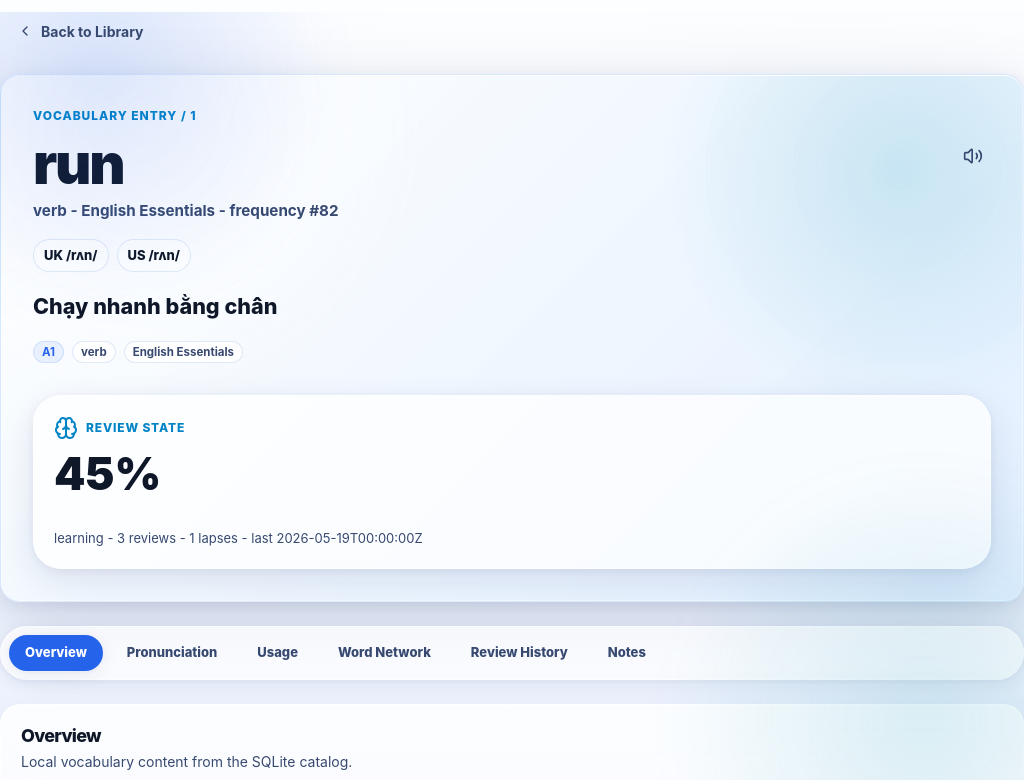
Test: WordDetailPage › shows IPA accent blocks and audio records in the pronunciation tab
This screenshot has width=1024, height=780.
Expected: the heading "run" is shown, [33,130,123,198]
Click the tab "Pronunciation" at x=172, y=653, box [111,635,233,671]
(page scrolled)
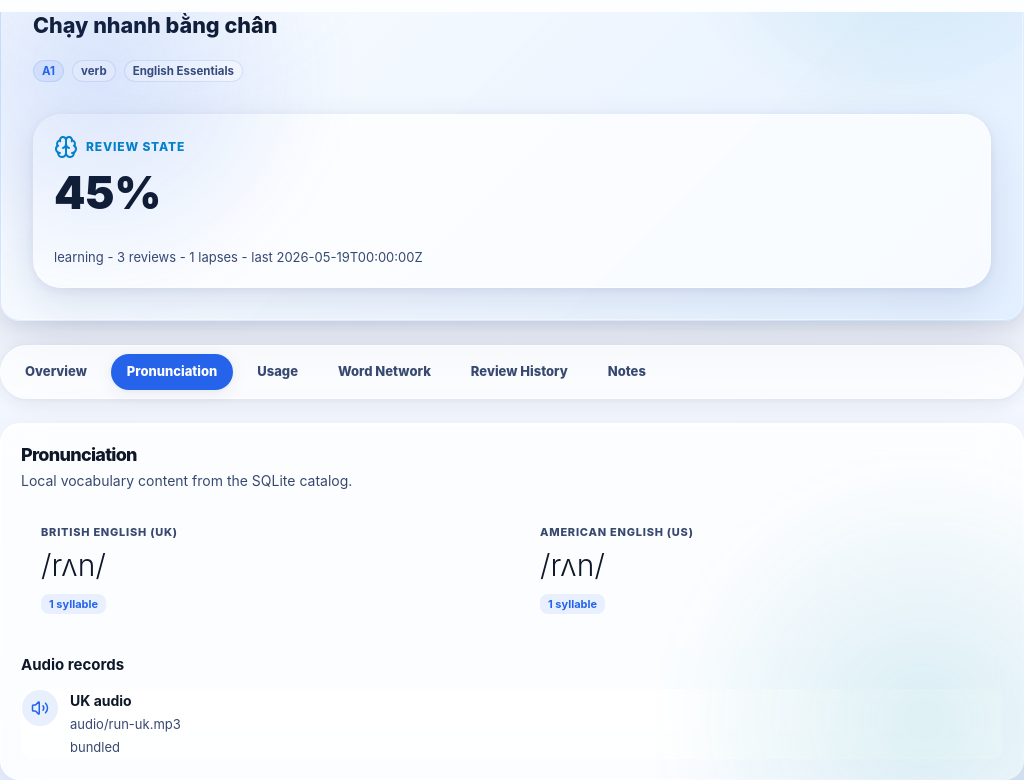
Result: the text "British English (UK)" is shown at [41,525,178,539]
Result: the text "American English (US)" is shown at [540,525,694,539]
Result: the text "UK audio" is shown at [70,692,132,709]
